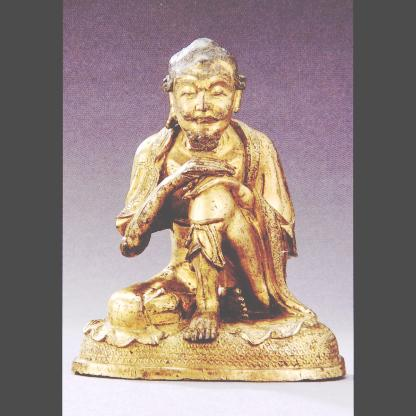buddha-sitting: (72, 39, 346, 382)
